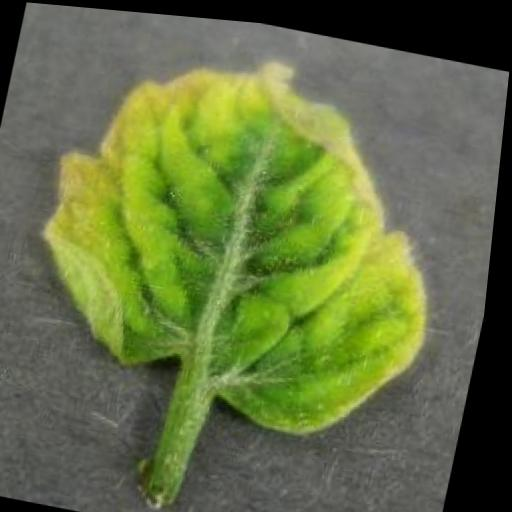Yellow Leaf Curl Virus: (15, 16, 478, 451)
